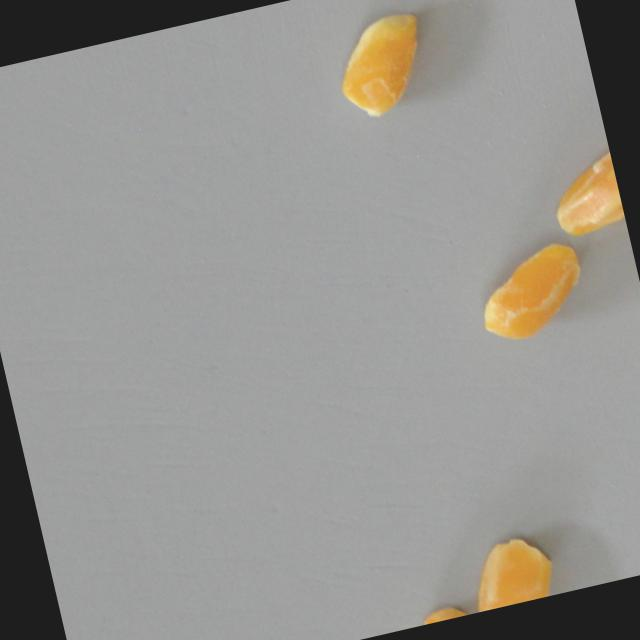pelicula: (315, 0, 447, 144), (465, 233, 600, 352), (450, 518, 569, 615), (540, 140, 627, 244), (396, 600, 473, 630)
